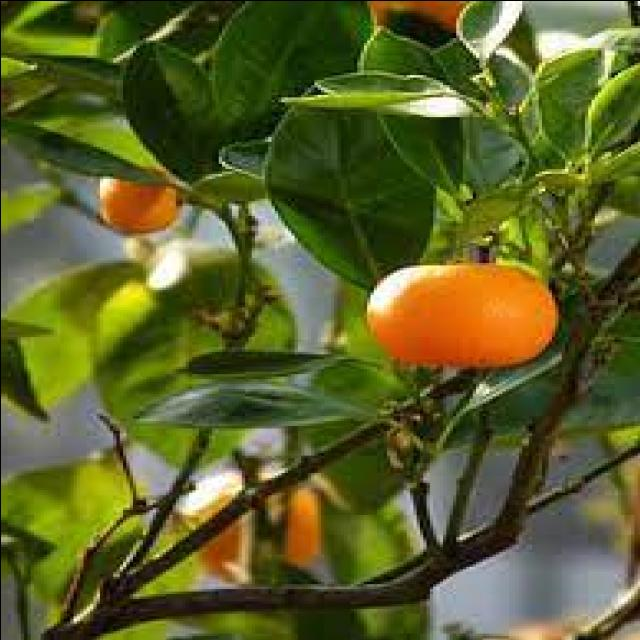orange: (340, 249, 568, 366)
